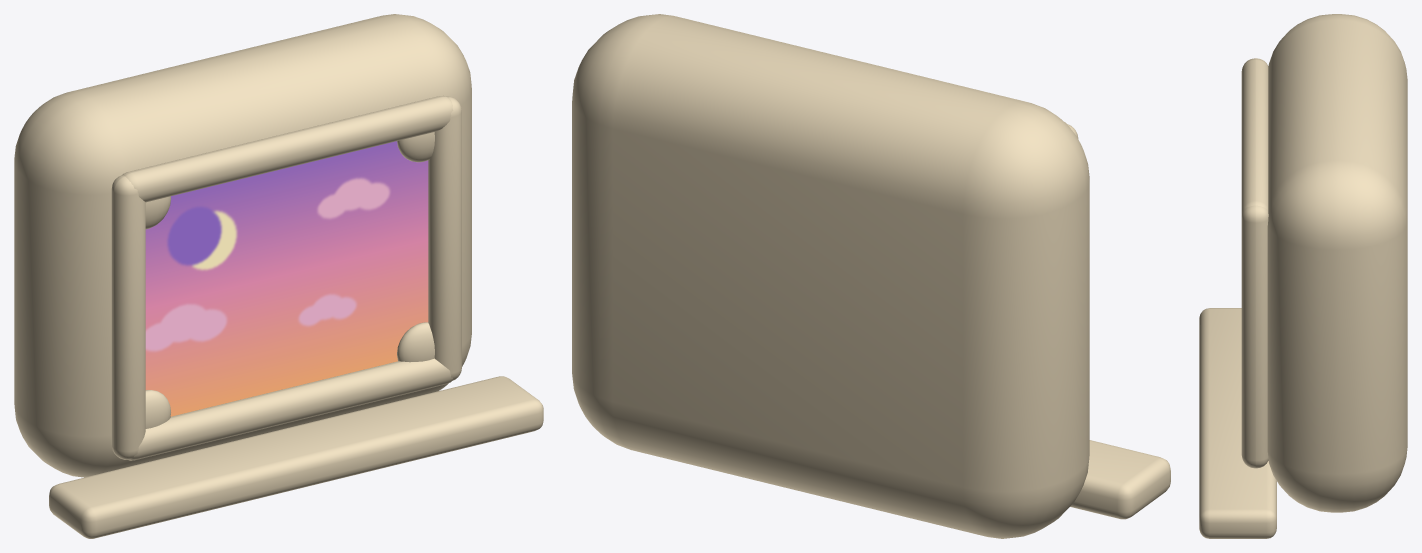
The model's file is window.glb.
3 views of the same model, side by side, from view 1: azimuth 30°, elevation 25°; view 2: azimuth 150°, elevation 25°; view 3: azimuth 270°, elevation 25° (orthographic). The views are drawn at different scales.
Visible parts, largest first — view 1: window; view 2: window; view 3: window.
Boxes of the visible parts, box(x1,y1,x2,y2) form: window: box(14, 14, 543, 538); window: box(572, 14, 1170, 538); window: box(1199, 14, 1407, 538).
Size of the model in its own units: 1.4 by 1.09 by 0.59.
2 materials, 1 textured.
